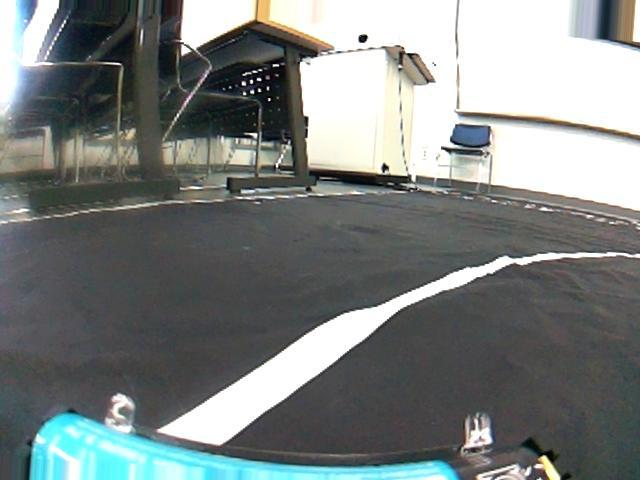right: (0, 230, 640, 479)
